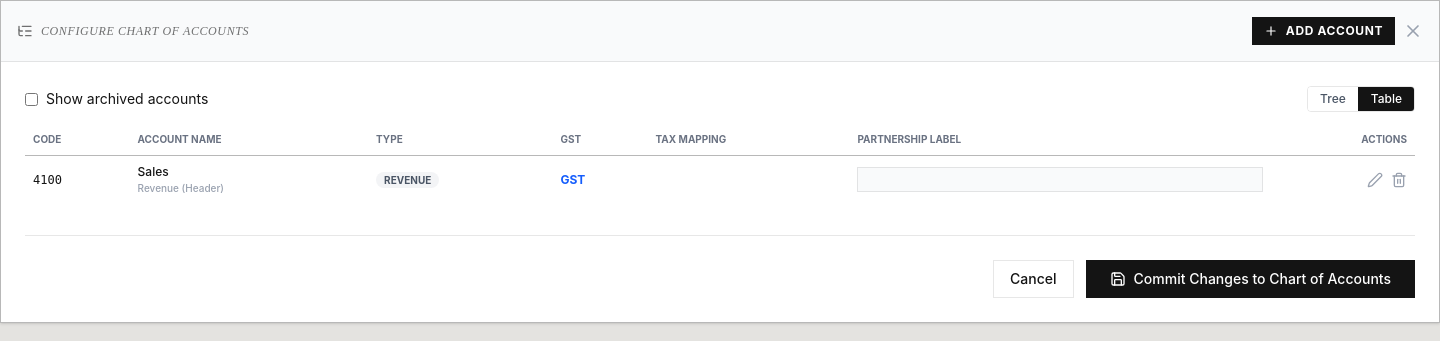
AccountManager › Phase 4 — AccountManager refactor (BOOK-06, BOOK-07) › archived accounts surface via filter toggle
Click the button with test id "view-mode-tree": (1333, 99) x1=1308 y1=87 x2=1358 y2=111
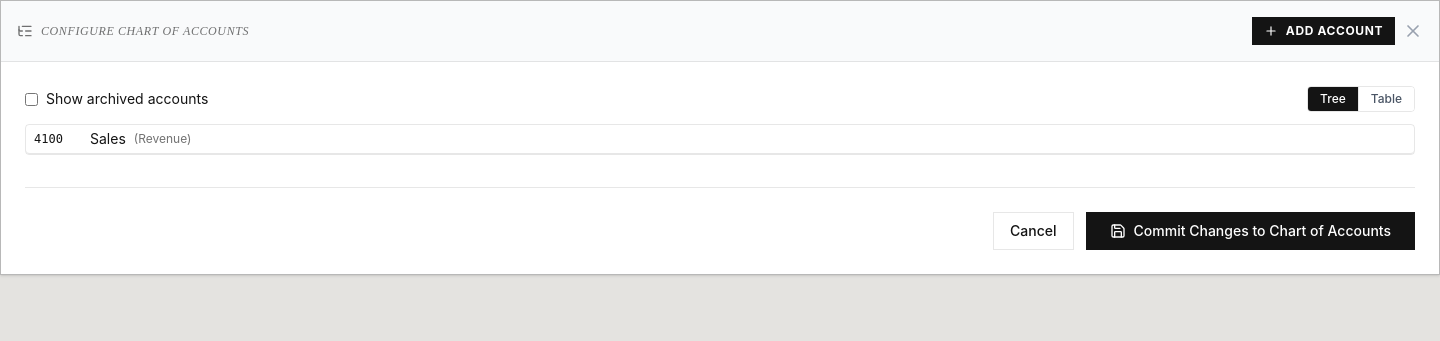
Click the checkbox labelled "Show archived accounts": (32, 99) x1=25 y1=92 x2=38 y2=106
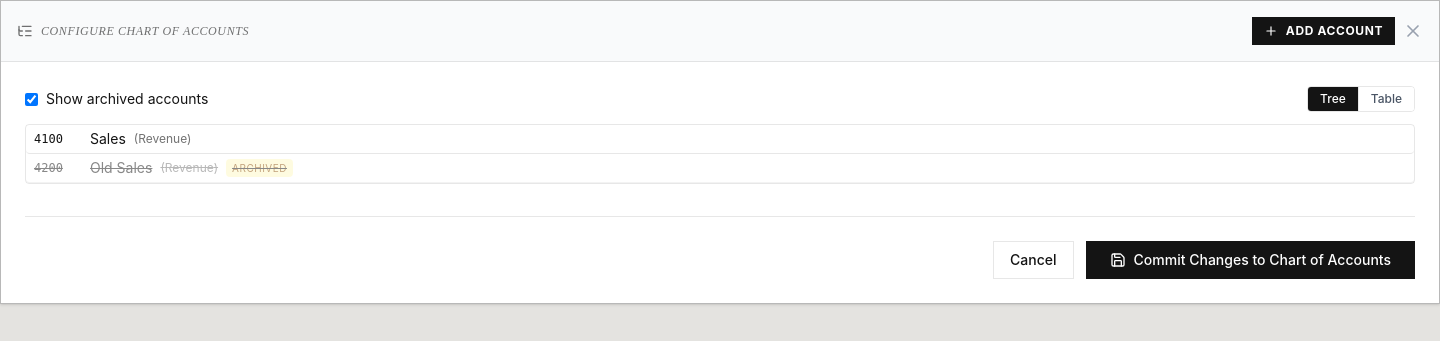
Now the list item with test id "coa-row-4200" is shown, box x1=26 y1=154 x2=1414 y2=183
